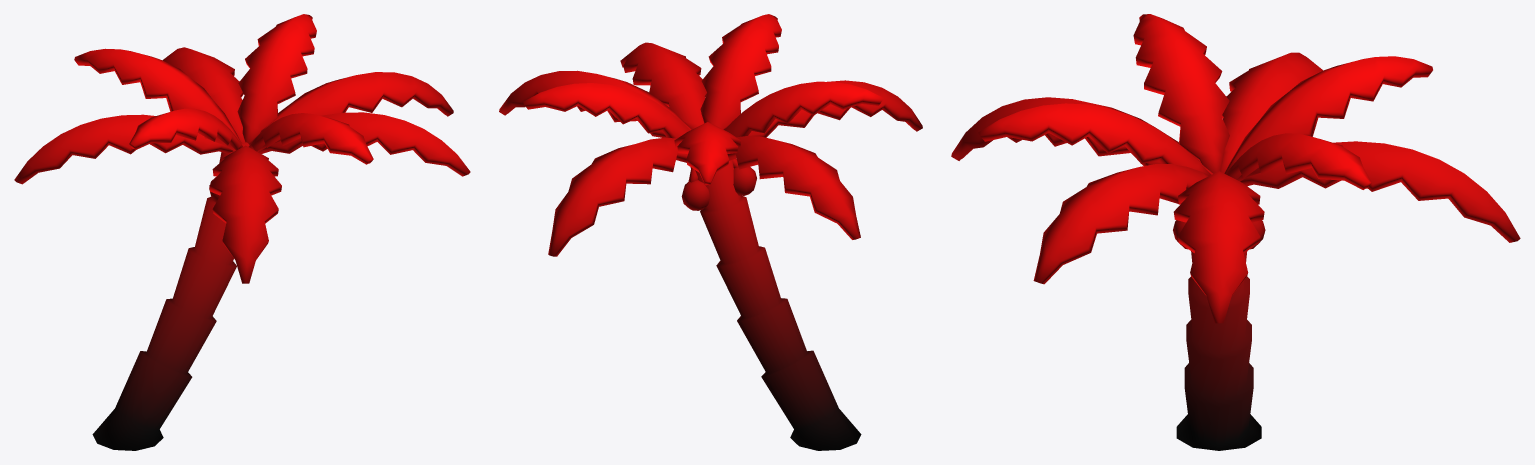
The model's file is SM_Island_PalmTree_Short.fbx.
3 renders of one model, left to right at view 1: azimuth 30°, elevation 25°; view 2: azimuth 150°, elevation 25°; view 3: azimuth 270°, elevation 25°, orthographic. The views are drawn at different scales.
Parts seen in each view (by area): view 1: SM_Island_PalmTree_Short_Outline; view 2: SM_Island_PalmTree_Short_Outline; view 3: SM_Island_PalmTree_Short_Outline.
Part boxes in pixels (<box>): SM_Island_PalmTree_Short_Outline: <box>14,14,470,450</box>; SM_Island_PalmTree_Short_Outline: <box>499,14,922,450</box>; SM_Island_PalmTree_Short_Outline: <box>951,14,1520,450</box>.
Bounding box in the file's own units: 4.5 × 3.59 × 4.45.
